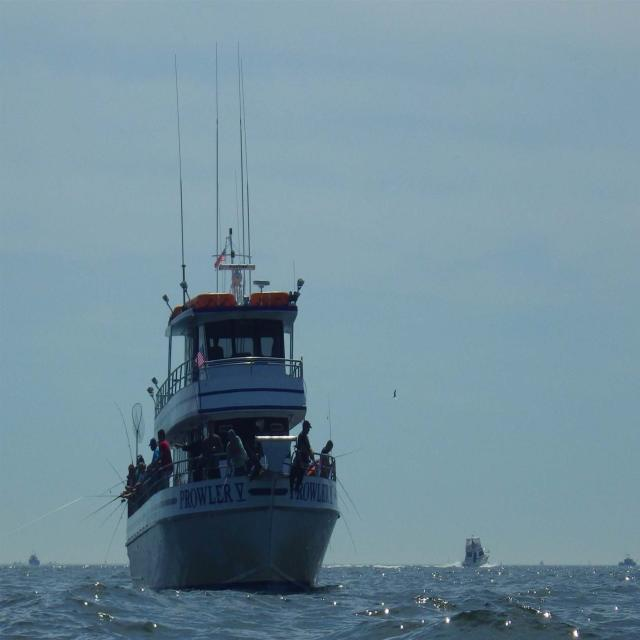fishing boat: (114, 248, 350, 590)
